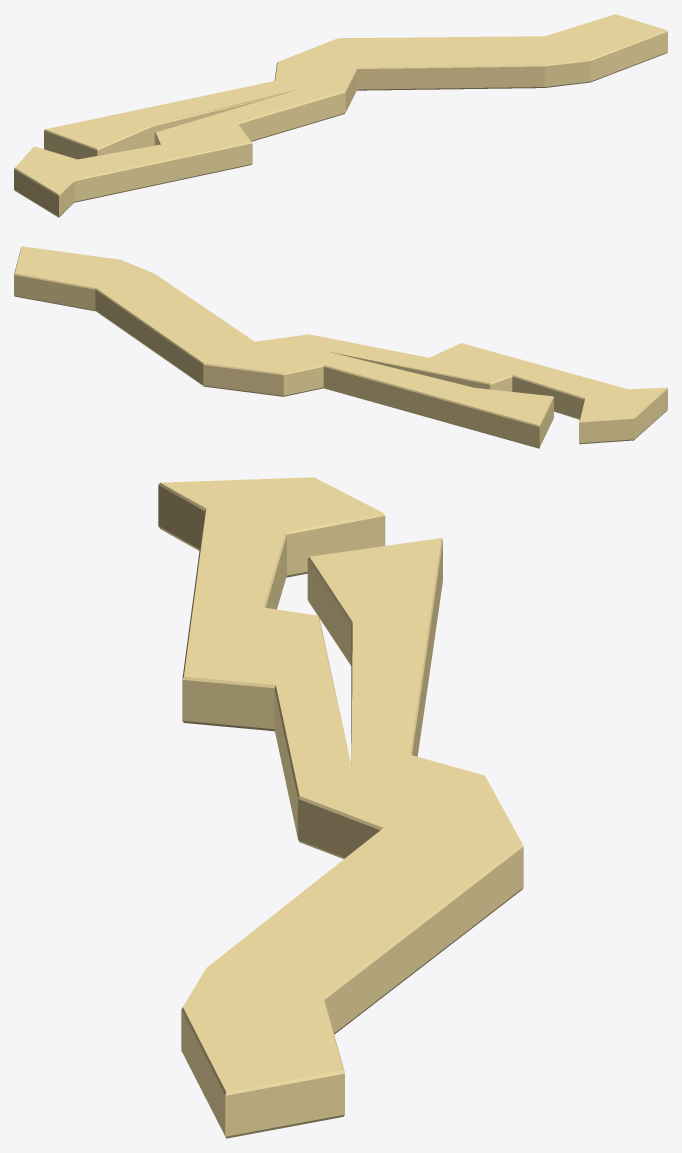
File: GMB.glb
3 renders of one model, top to bottom at view 1: azimuth 30°, elevation 25°; view 2: azimuth 150°, elevation 25°; view 3: azimuth 270°, elevation 25°, orthographic. The views are drawn at different scales.
Size of the model in its own units: 1.94 by 0.068 by 0.4857.
